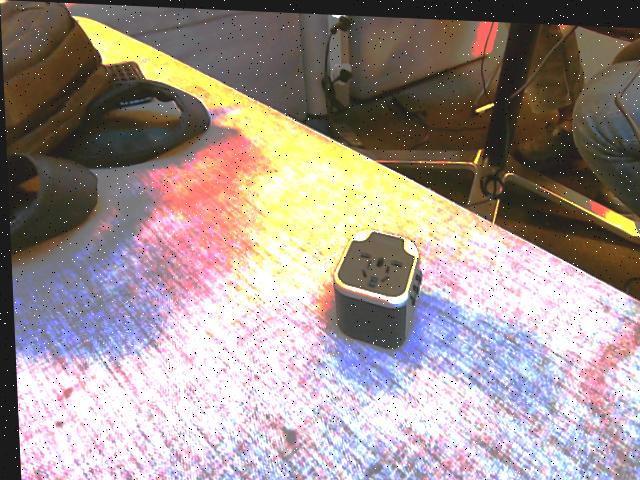adapter: (328, 223, 423, 346)
